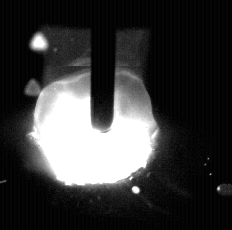arame: (91, 0, 116, 133)
poca: (33, 0, 158, 230)
